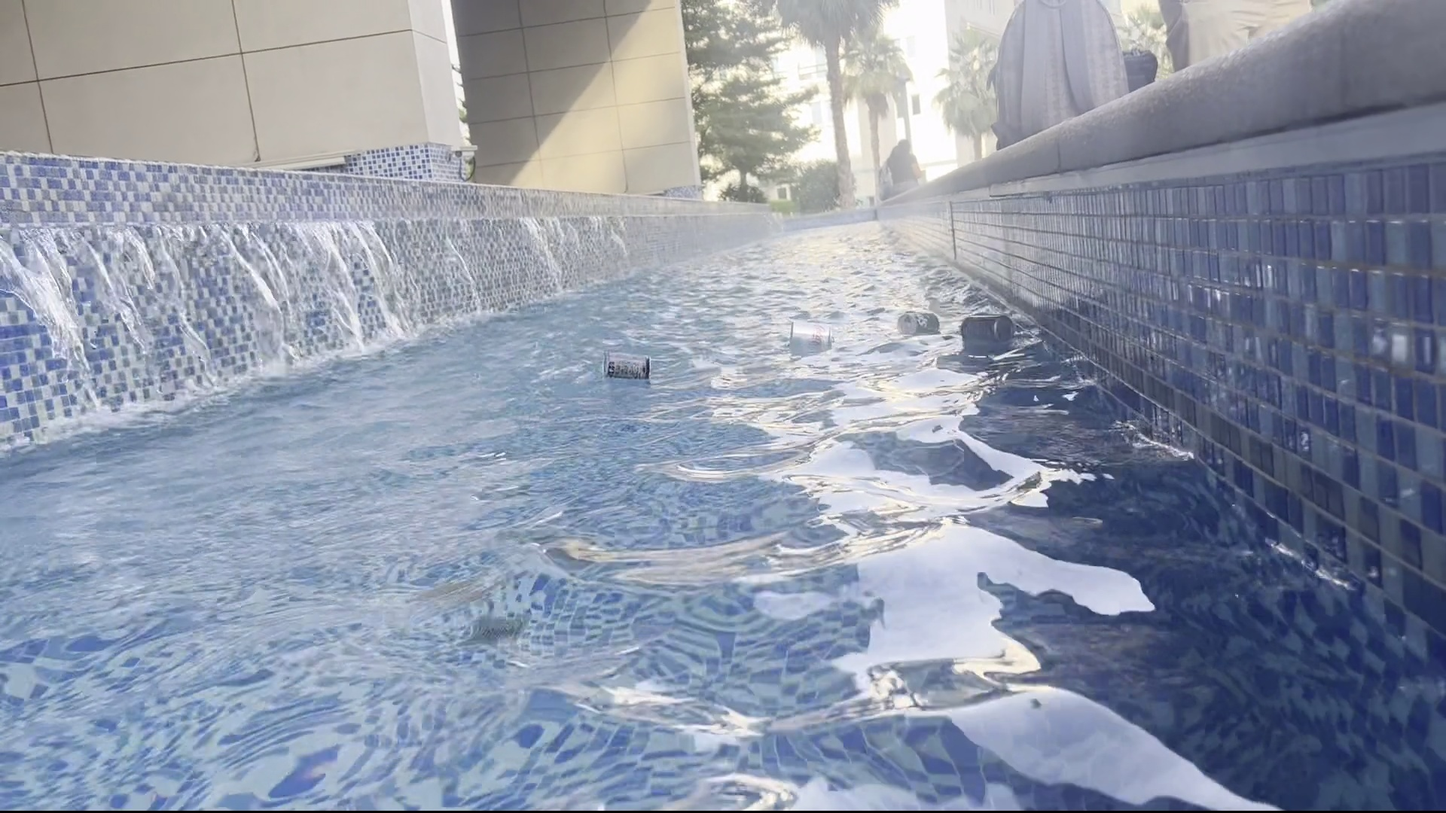debris: (595, 345, 655, 385), (890, 304, 950, 343), (958, 309, 1016, 349), (789, 316, 835, 352)
